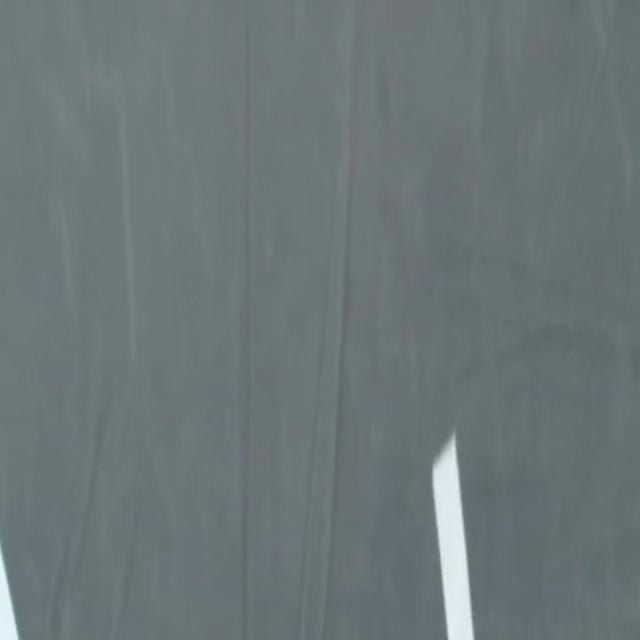center: (433, 432, 474, 639)
left: (0, 547, 19, 639)
